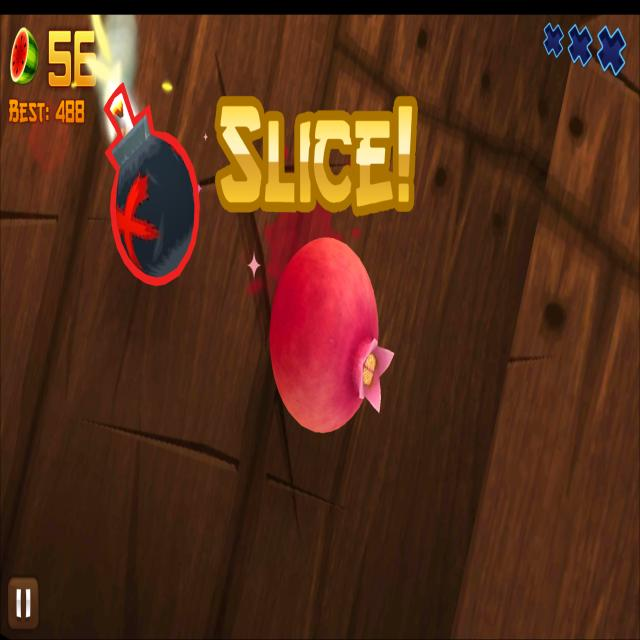bomb: (103, 82, 200, 287)
fruit: (269, 238, 394, 434)
